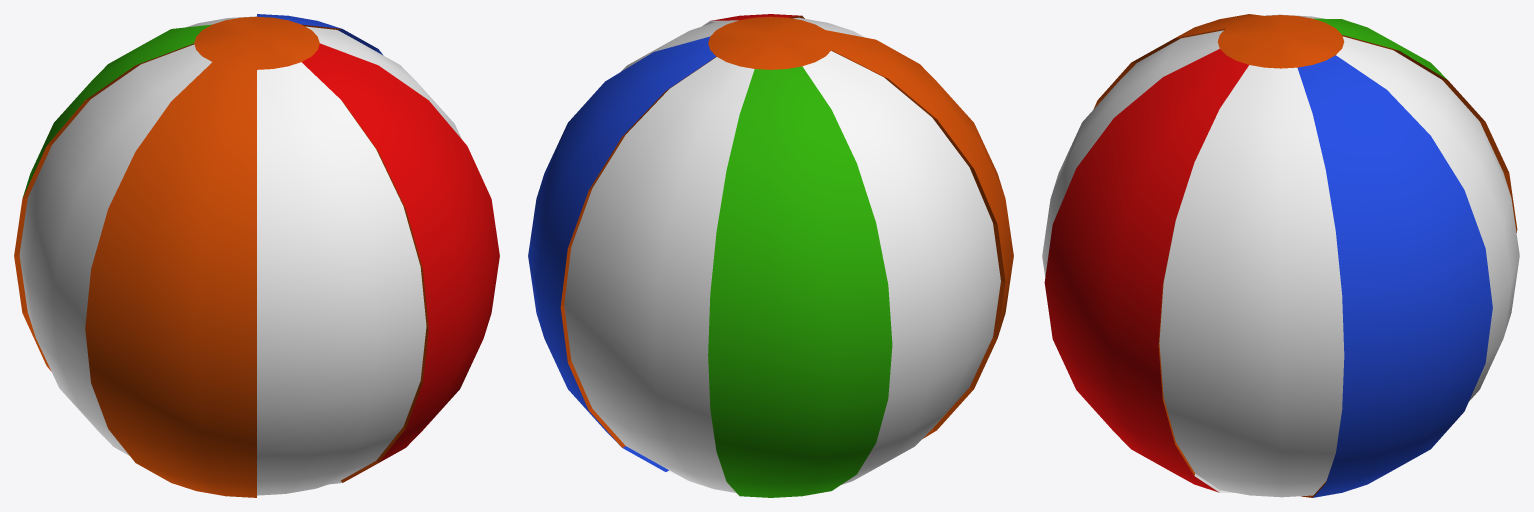
File: pelota.fbx
The picture shows the model from 3 angles, left to right: view 1: azimuth 30°, elevation 25°; view 2: azimuth 150°, elevation 25°; view 3: azimuth 270°, elevation 25°; orthographic projection.
Parts seen in each view (by area): view 1: Sphere001; view 2: Sphere001; view 3: Sphere001.
Boxes of the visible parts, x1,y1,x2,y2 form: Sphere001: (14, 14, 499, 497); Sphere001: (528, 14, 1013, 497); Sphere001: (1042, 14, 1519, 497).
Size of the model in its own units: 9.47 by 9.7 by 9.47.
